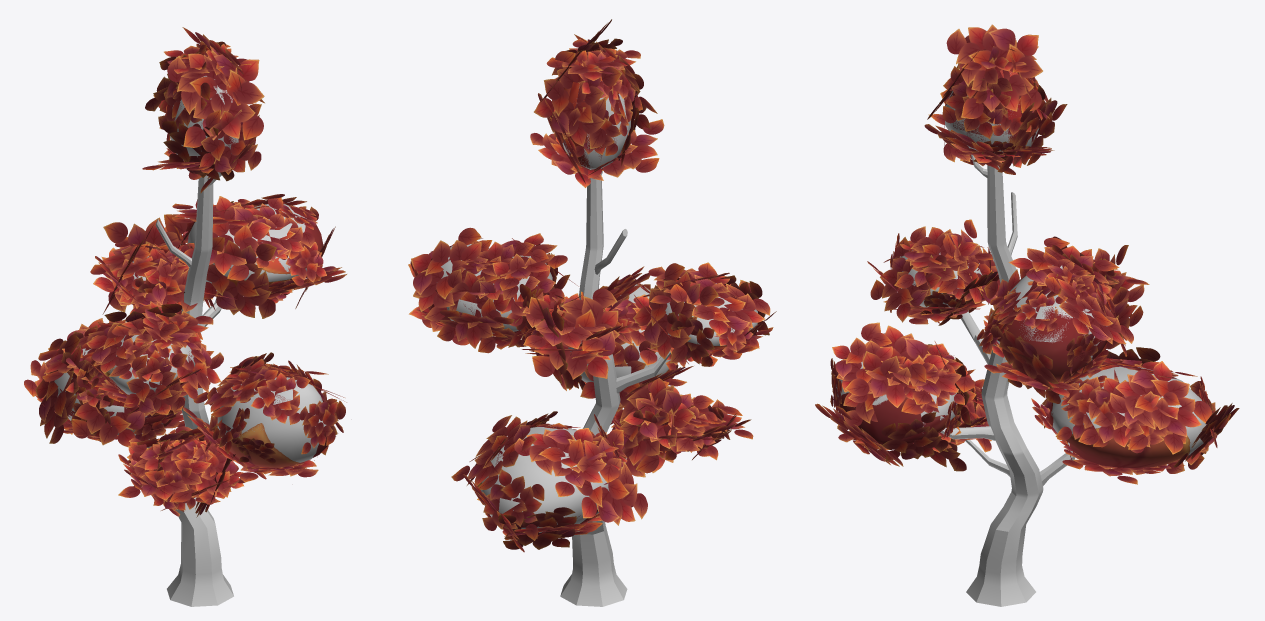
File: Mesh_Miranda_Tree3.fbx
The picture shows the model from 3 angles, left to right: view 1: azimuth 30°, elevation 25°; view 2: azimuth 150°, elevation 25°; view 3: azimuth 270°, elevation 25°; orthographic projection.
Parts seen in each view (by area): view 1: Object029; view 2: Object029; view 3: Object029.
Boxes of the visible parts, x1,y1,x2,y2 form: Object029: [24, 27, 346, 606]; Object029: [408, 19, 776, 606]; Object029: [815, 24, 1239, 606].
Size of the model in its own units: 6.42 by 11.3 by 7.9.
